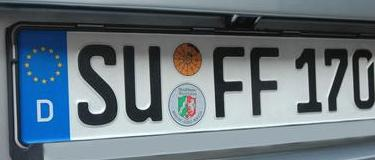0: (351, 48, 375, 112)
1: (293, 45, 324, 115)
7: (322, 47, 349, 115)
F: (210, 44, 246, 122), (249, 44, 281, 120)
S: (75, 43, 120, 128)
U: (122, 44, 165, 125)
